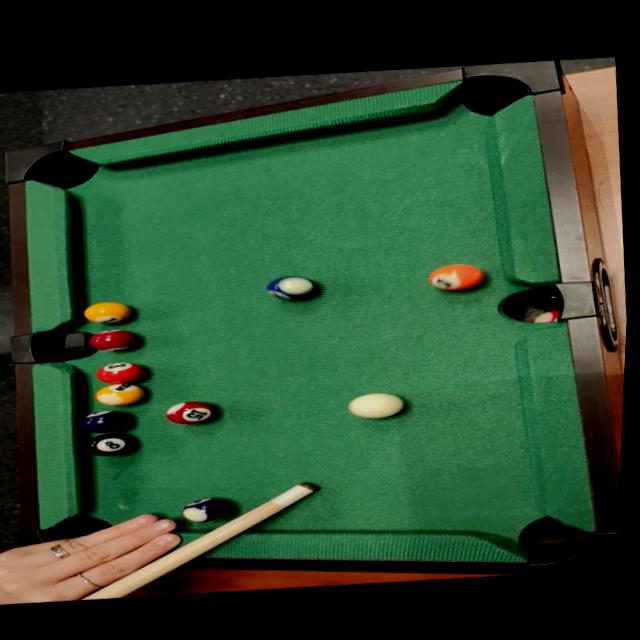cue ball: (342, 388, 407, 423)
other: (420, 257, 490, 295), (70, 403, 137, 438), (176, 491, 241, 526), (262, 270, 326, 304), (91, 378, 156, 409), (80, 428, 143, 459), (78, 295, 137, 328), (162, 397, 222, 428), (92, 356, 155, 385), (87, 326, 142, 353)
